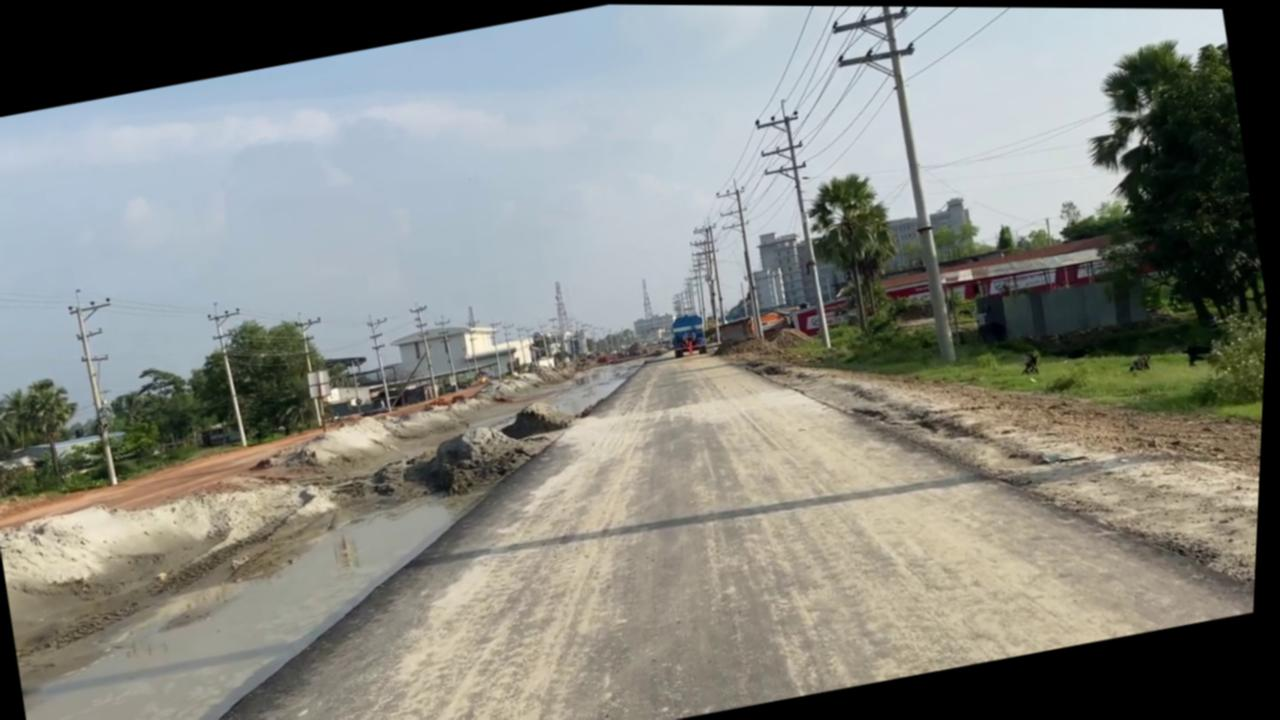Animal: (1184, 337, 1217, 364), (1127, 350, 1156, 372)
Dog: (1021, 347, 1044, 374)
Pole: (745, 96, 848, 358)
Sidewalk: (0, 346, 721, 720)
Traffic-sign: (1059, 23, 1279, 344), (797, 166, 917, 340)
Tree: (669, 309, 712, 358)
